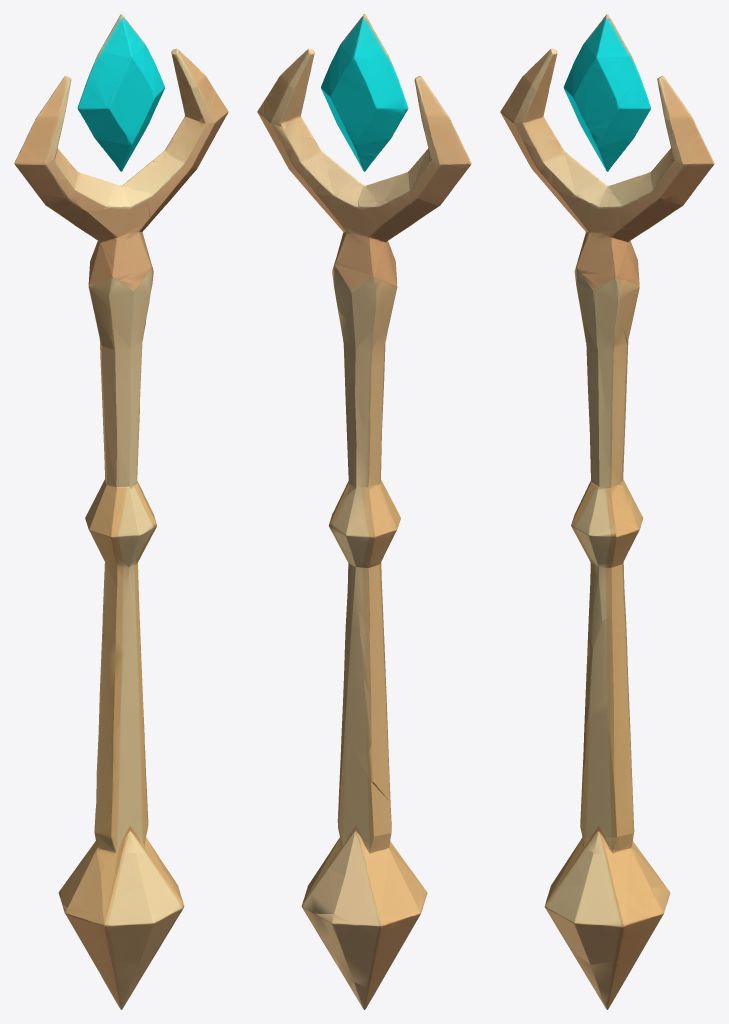
The model's file is Meshy_AI_Crystal_Crescent_Staf_1018145354_texture.fbx.
3 renders of one model, left to right at view 1: azimuth 30°, elevation 25°; view 2: azimuth 150°, elevation 25°; view 3: azimuth 330°, elevation 25°, orthographic.
Visible parts, largest first — view 1: output_unwrapped; view 2: output_unwrapped; view 3: output_unwrapped.
Part boxes in pixels (bbox=[...]): output_unwrapped: bbox=[14, 14, 228, 1009]; output_unwrapped: bbox=[257, 14, 471, 1009]; output_unwrapped: bbox=[500, 14, 714, 1009].
Size of the model in its own units: 42.73 by 190 by 22.52.
Materials: 1 (1 with a texture image).
